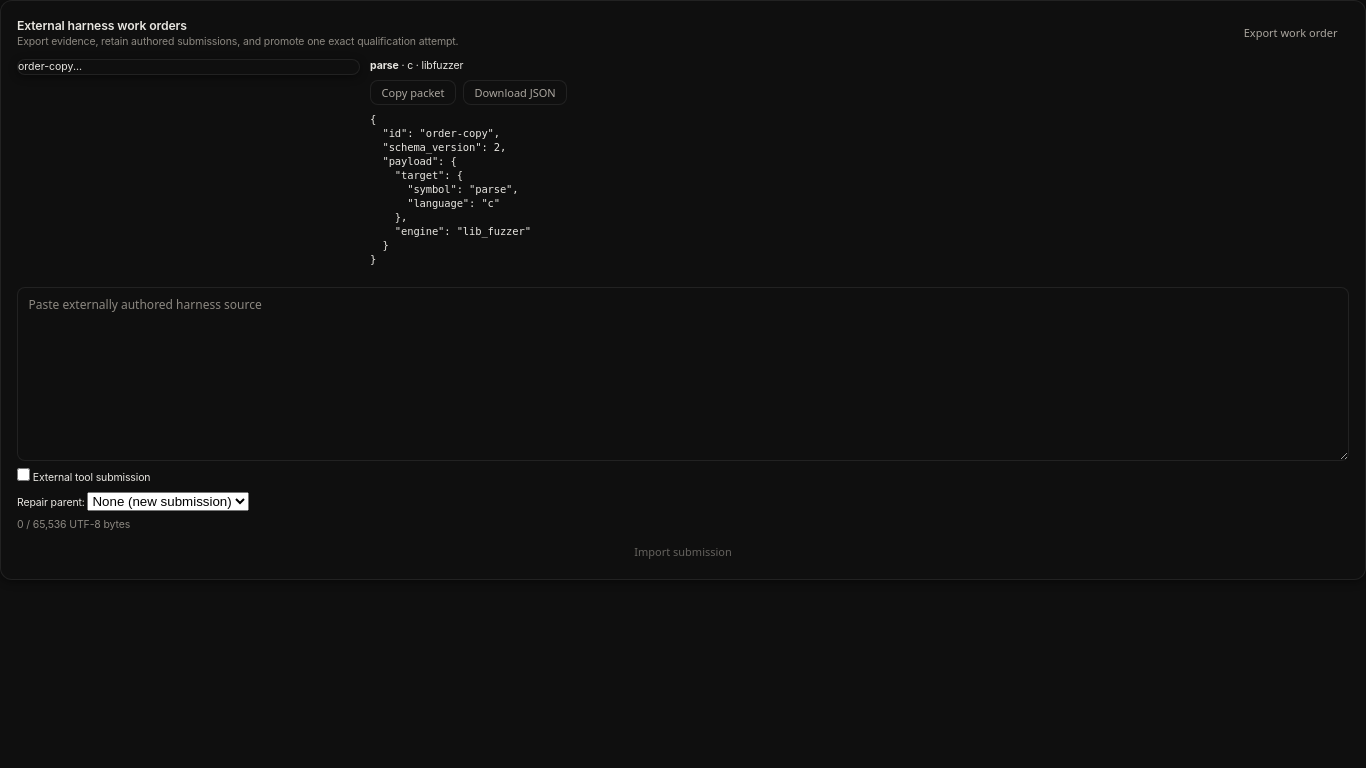
it: expert workflow panels › surfaces clipboard failures
This screenshot has width=1366, height=768.
Click the button "Copy packet".
click(413, 92)  # box [370,80,456,104]
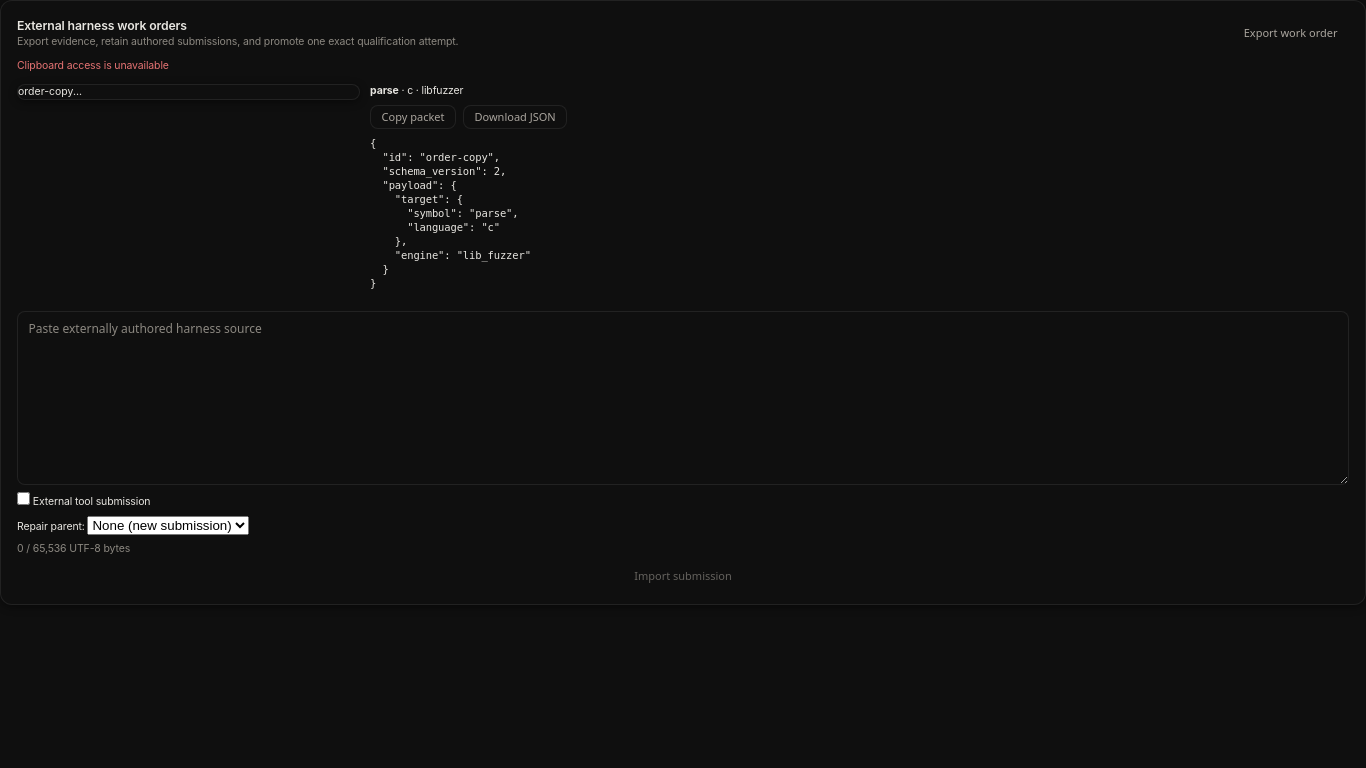
Expected: the message "Clipboard access is unavailable" is shown, [17,59,169,72]
